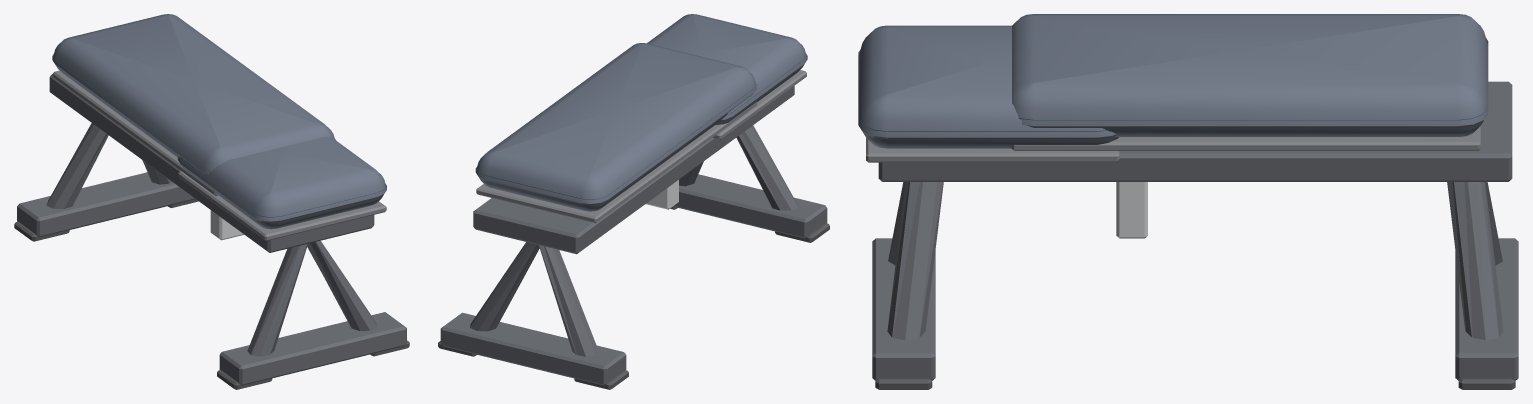
Rendered from gym-and-fitness-studio-adjustable-bench-4624177a.glb.
The picture shows the model from 3 angles, left to right: view 1: azimuth 30°, elevation 25°; view 2: azimuth 150°, elevation 25°; view 3: azimuth 270°, elevation 25°; orthographic projection. The views are drawn at different scales.
Visible parts, largest first — view 1: adjustable-bench; view 2: adjustable-bench; view 3: adjustable-bench.
Part boxes in pixels (x1,y1,x2,y2): adjustable-bench: [14, 14, 409, 389]; adjustable-bench: [438, 14, 829, 389]; adjustable-bench: [858, 14, 1518, 389].
Bounding box in the file's own units: 0.46 × 0.488 × 1.04.
